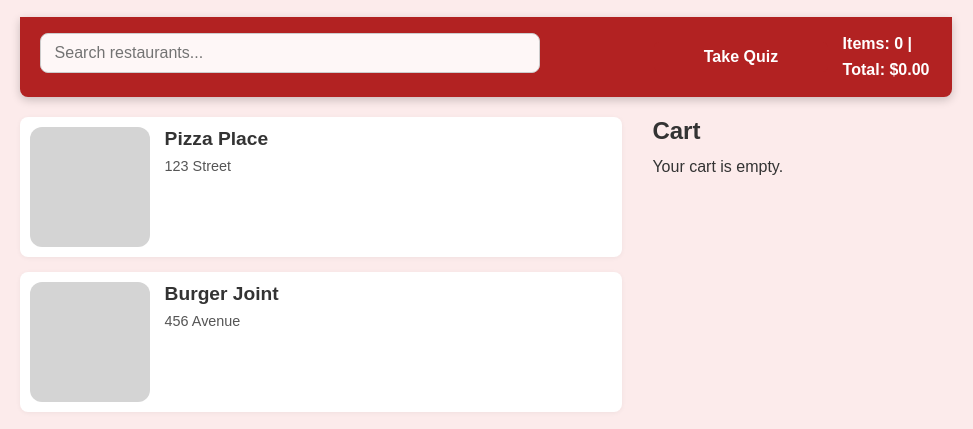
Test: Browse Component - coverage tests › handles menu fetch failure gracefully
Trigger menu fetch
Click the heading "Pizza Place": (216, 138) [165,128,268,149]
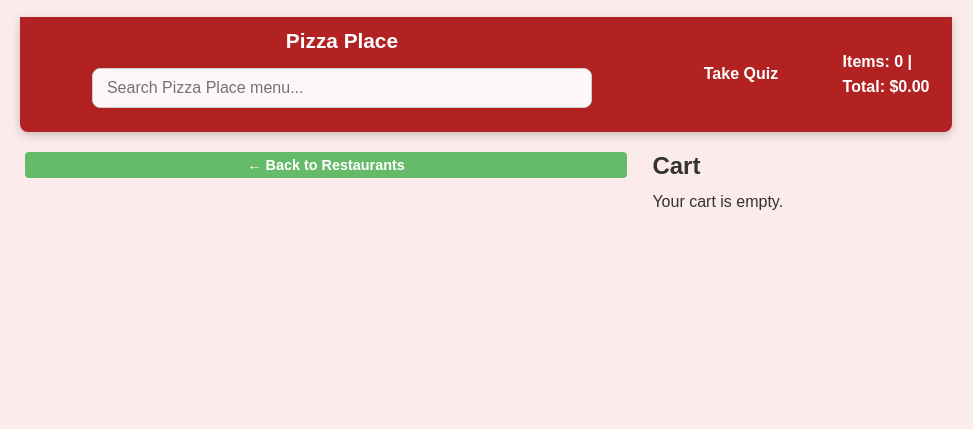
Expected: the button "← Back to Restaurants" is shown, [25,152,627,178]
